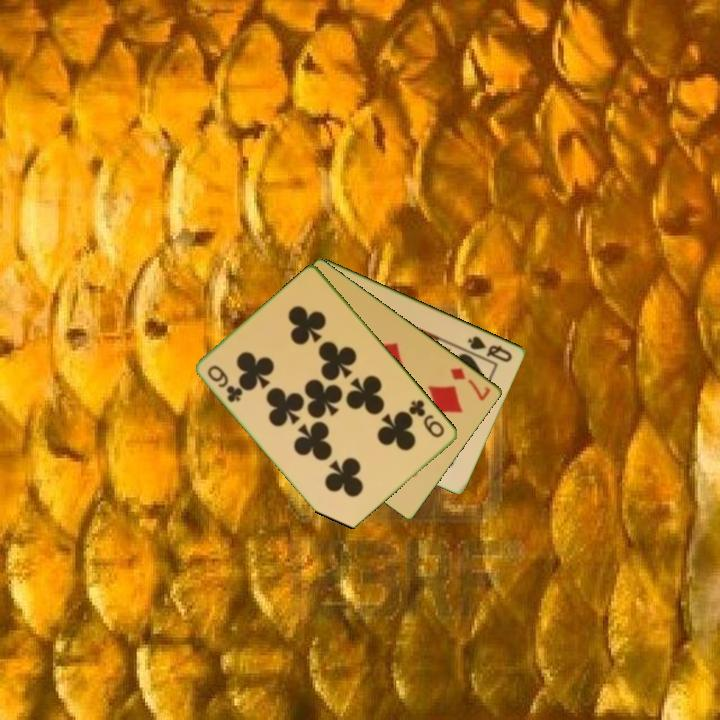7d: (447, 364, 494, 404)
9c: (406, 396, 448, 441), (204, 362, 246, 405)
Qs: (465, 332, 515, 365)
